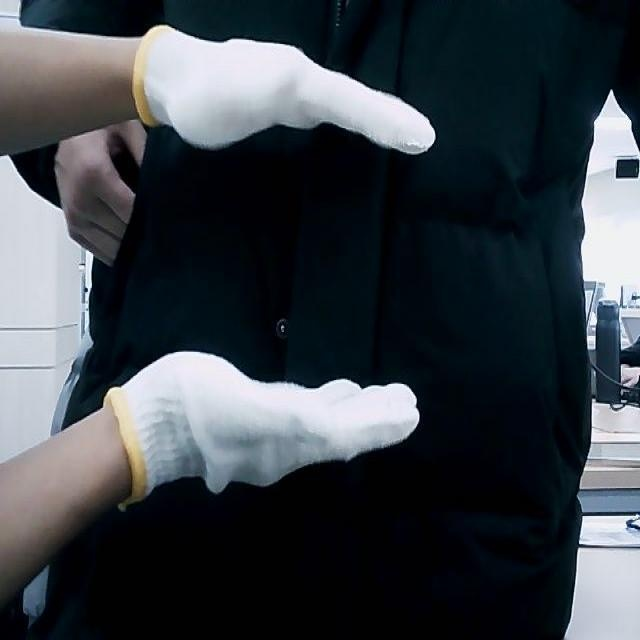Guantes: (104, 349, 421, 506), (132, 22, 436, 156)
